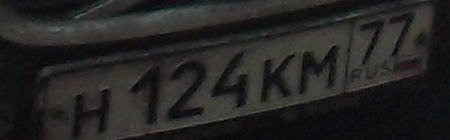character: (166, 58, 208, 122), (211, 52, 253, 113), (71, 85, 114, 140), (127, 62, 161, 130), (297, 43, 340, 94), (258, 56, 297, 103), (357, 18, 386, 74), (388, 11, 417, 60)
